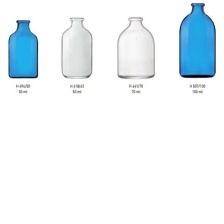bottle: (175, 0, 222, 83), (112, 14, 158, 83), (55, 10, 98, 83), (5, 14, 41, 80)
